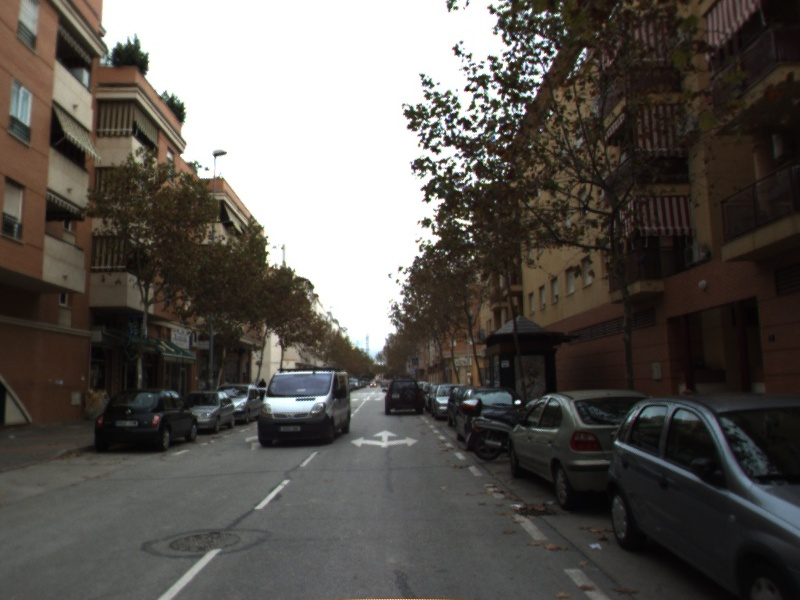STRAIGHT_LEFT_RIGHT: (348, 428, 421, 450)
